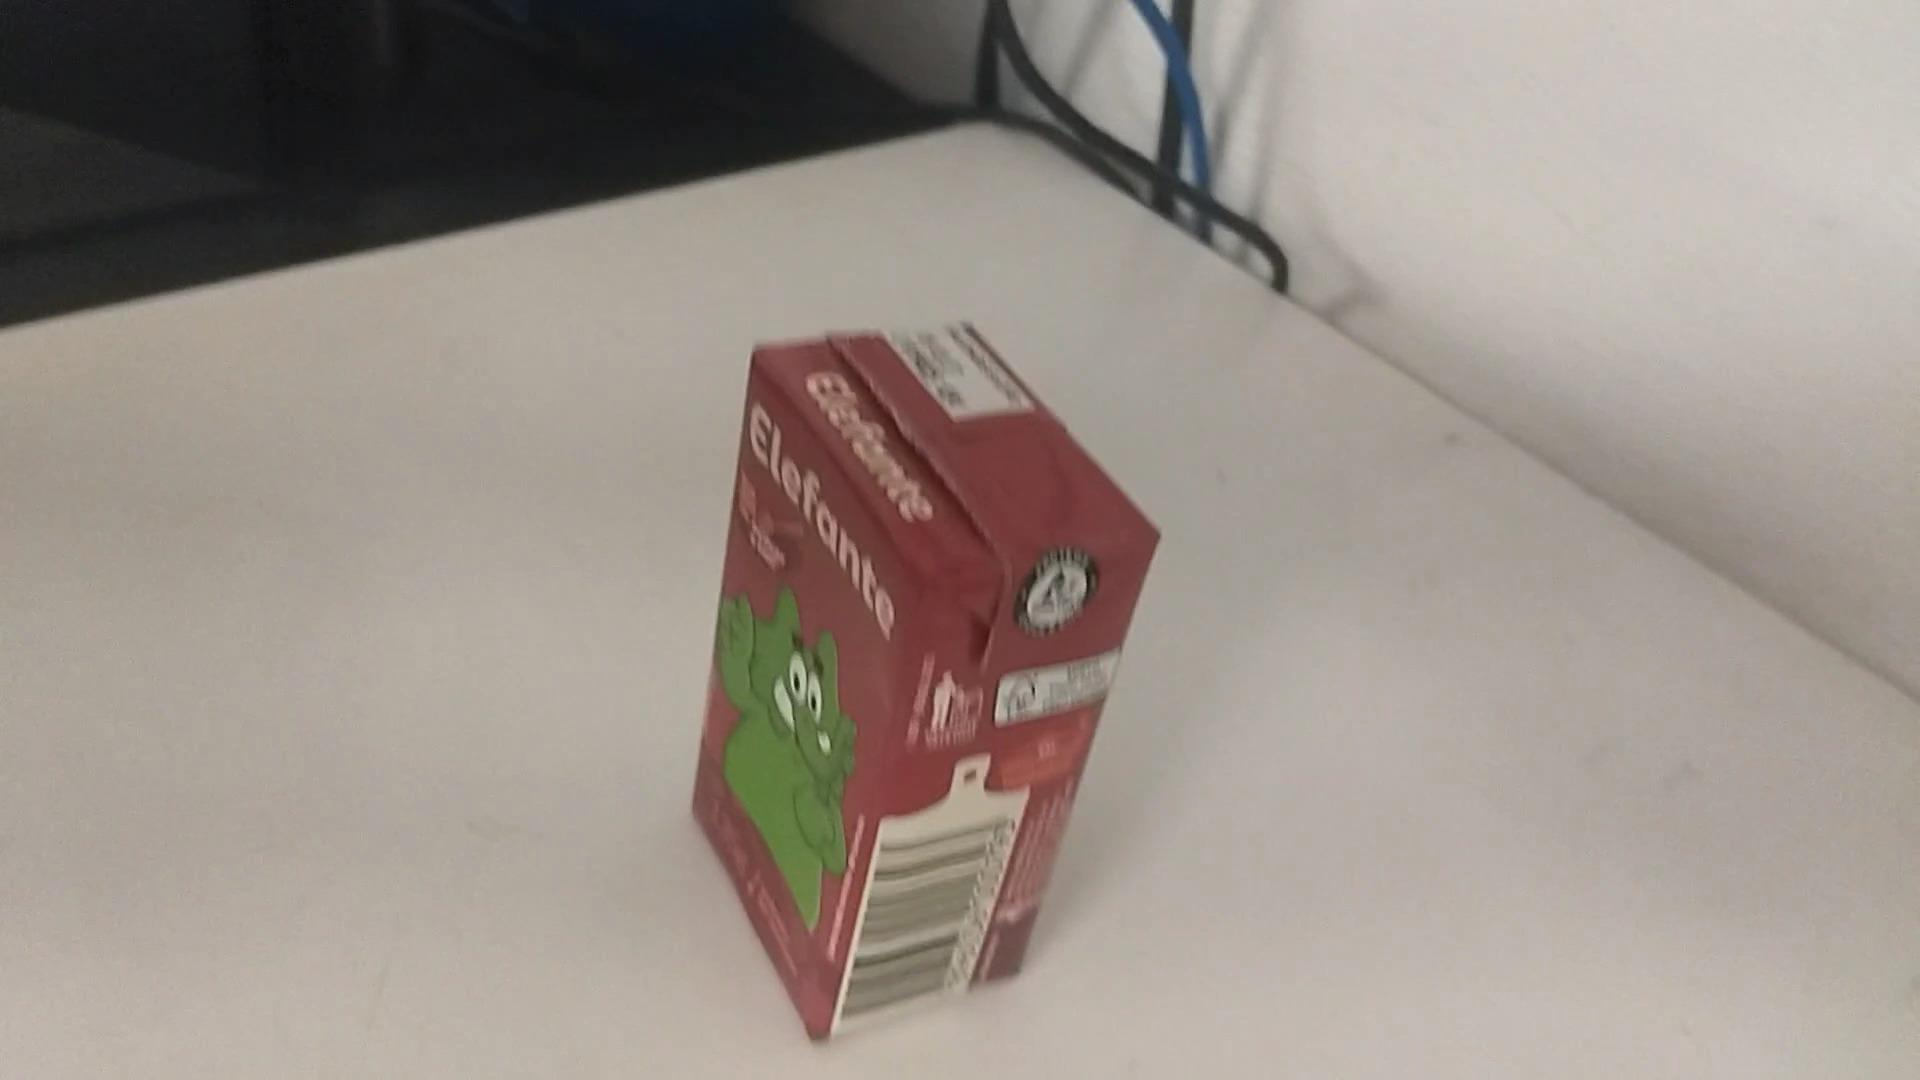tomate: (683, 311, 1171, 1048)
